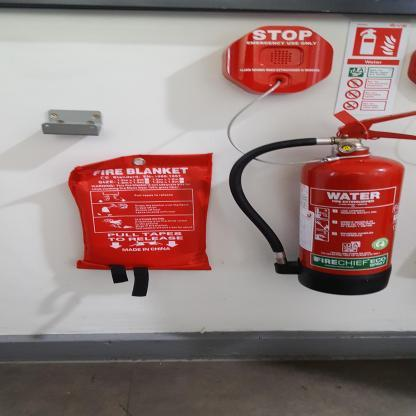Fire Extinguisher: (221, 102, 416, 302)
